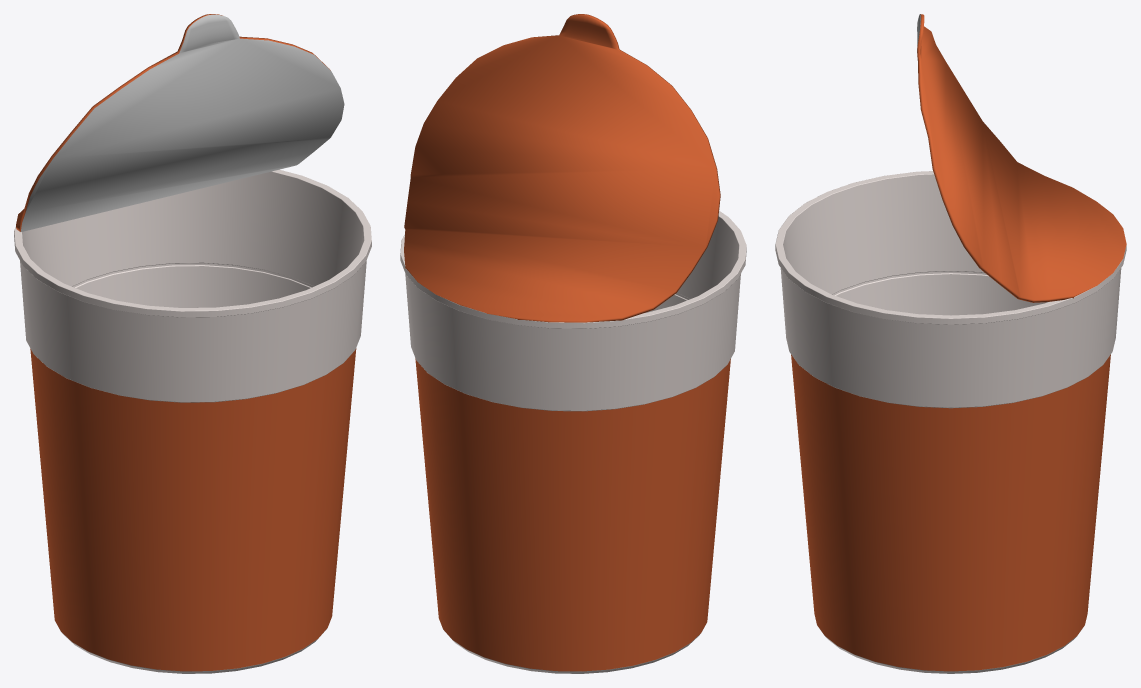
The model's file is Cup Noodle.fbx.
3 views of the same model, side by side, from view 1: azimuth 30°, elevation 25°; view 2: azimuth 150°, elevation 25°; view 3: azimuth 270°, elevation 25° (orthographic). The views are drawn at different scales.
Parts seen in each view (by area): view 1: Cylinder; view 2: Cylinder; view 3: Cylinder.
Part boxes in pixels (x1,y1,x2,y2): Cylinder: (14,14,371,673); Cylinder: (400,14,746,673); Cylinder: (775,14,1126,673).
Bounding box in the file's own units: 16.68 × 31.38 × 16.65.
